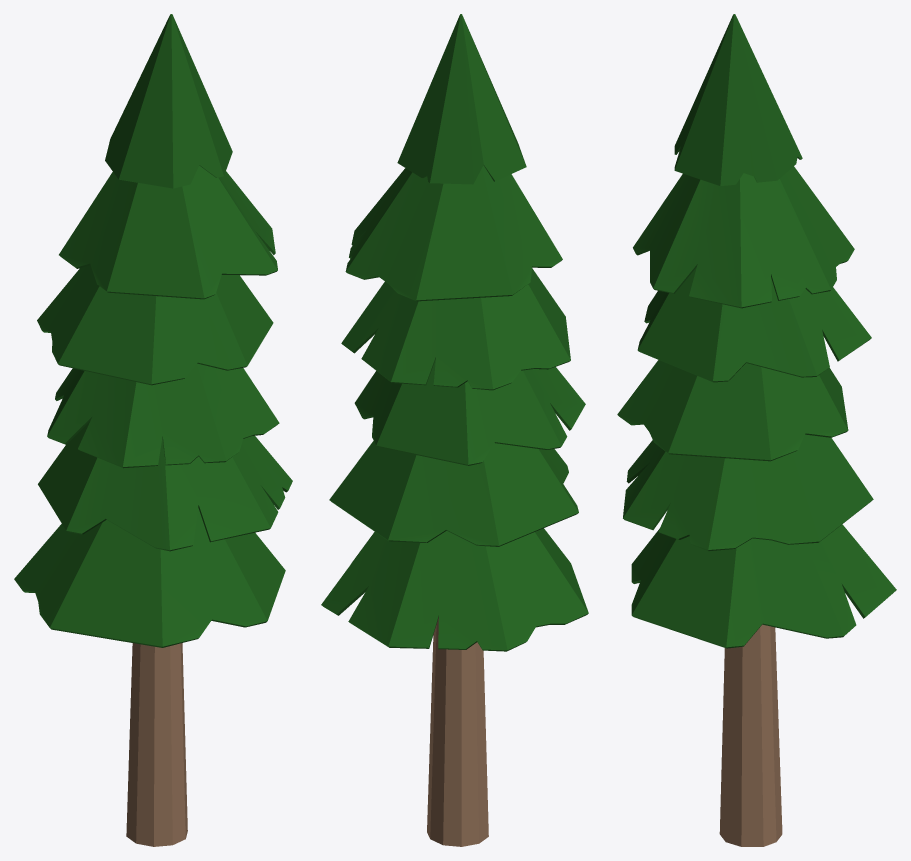
File: Pino3.fbx
The picture shows the model from 3 angles, left to right: view 1: azimuth 30°, elevation 25°; view 2: azimuth 150°, elevation 25°; view 3: azimuth 270°, elevation 25°; orthographic projection.
Parts seen in each view (by area): view 1: ThirdPine; view 2: ThirdPine; view 3: ThirdPine.
Part boxes in pixels (x1,y1,x2,y2): ThirdPine: (14, 14, 292, 846); ThirdPine: (321, 14, 588, 846); ThirdPine: (617, 14, 896, 846).
Size of the model in its own units: 2384 by 7955 by 2451.
